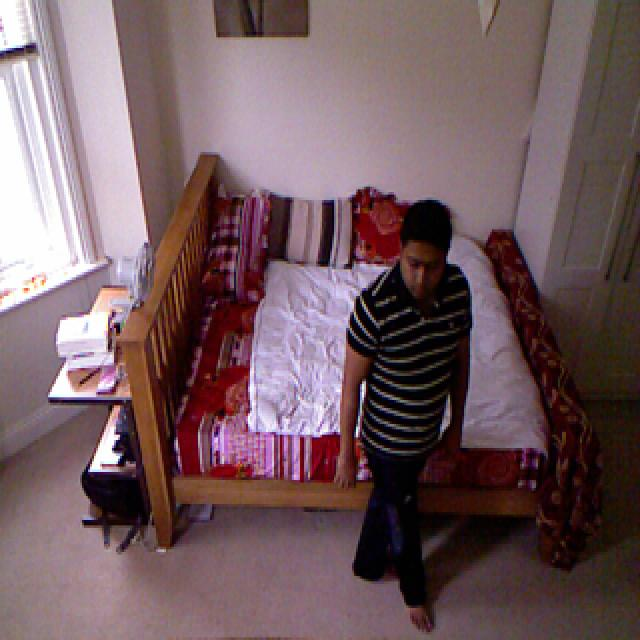standing: (336, 181, 475, 640)
